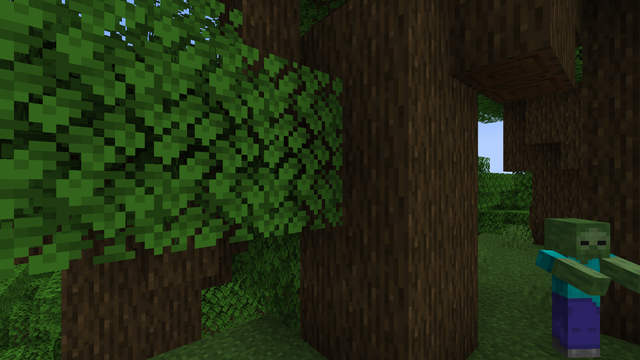zombies: (545, 219, 605, 357)
